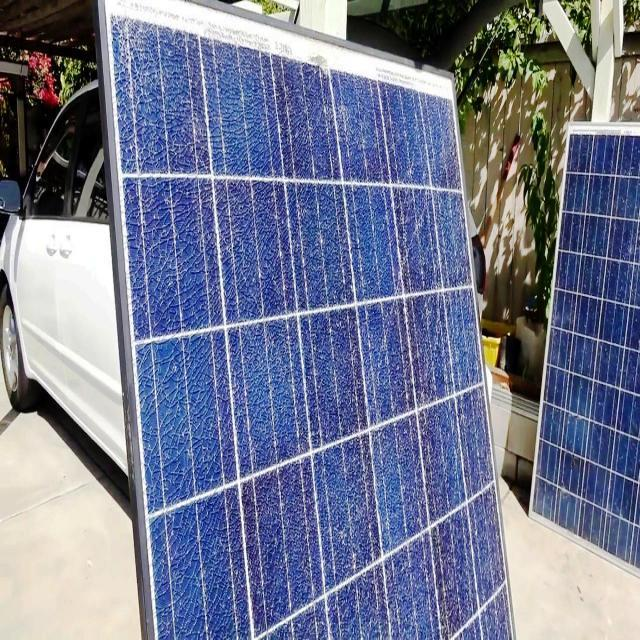faulty: (106, 5, 518, 637), (532, 121, 640, 572)
